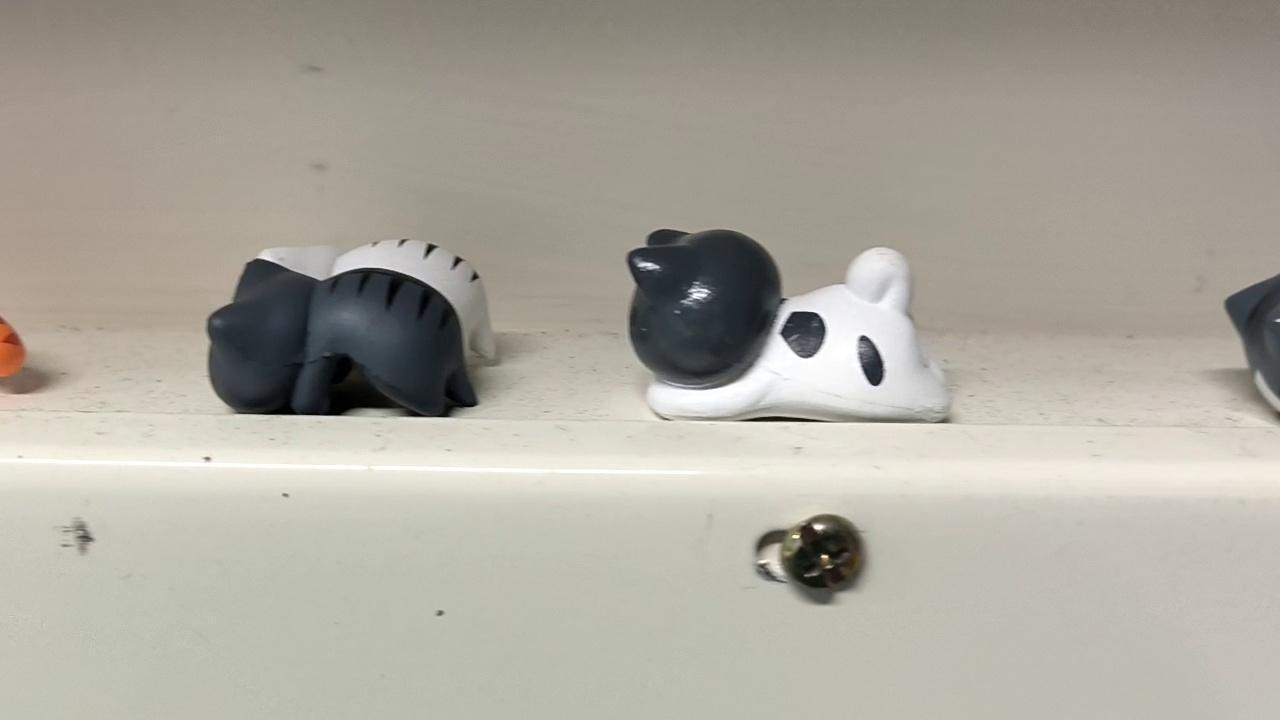pet: (615, 220, 957, 430), (203, 255, 480, 421)
